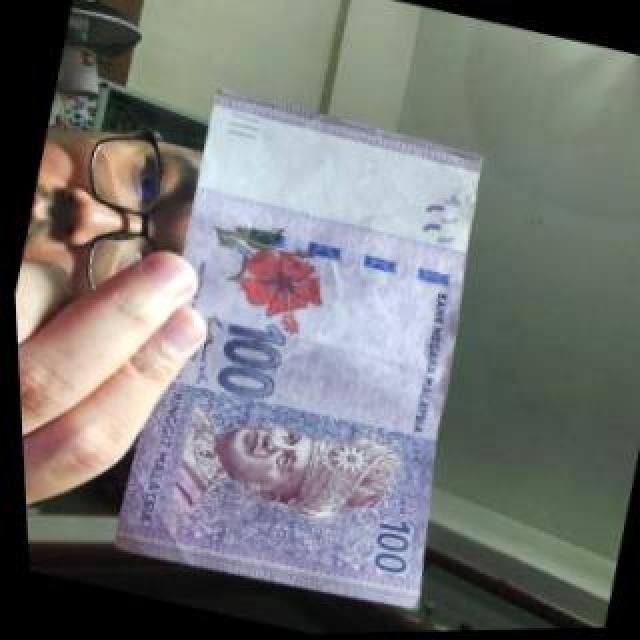100 Ringgit: (84, 70, 519, 631)
